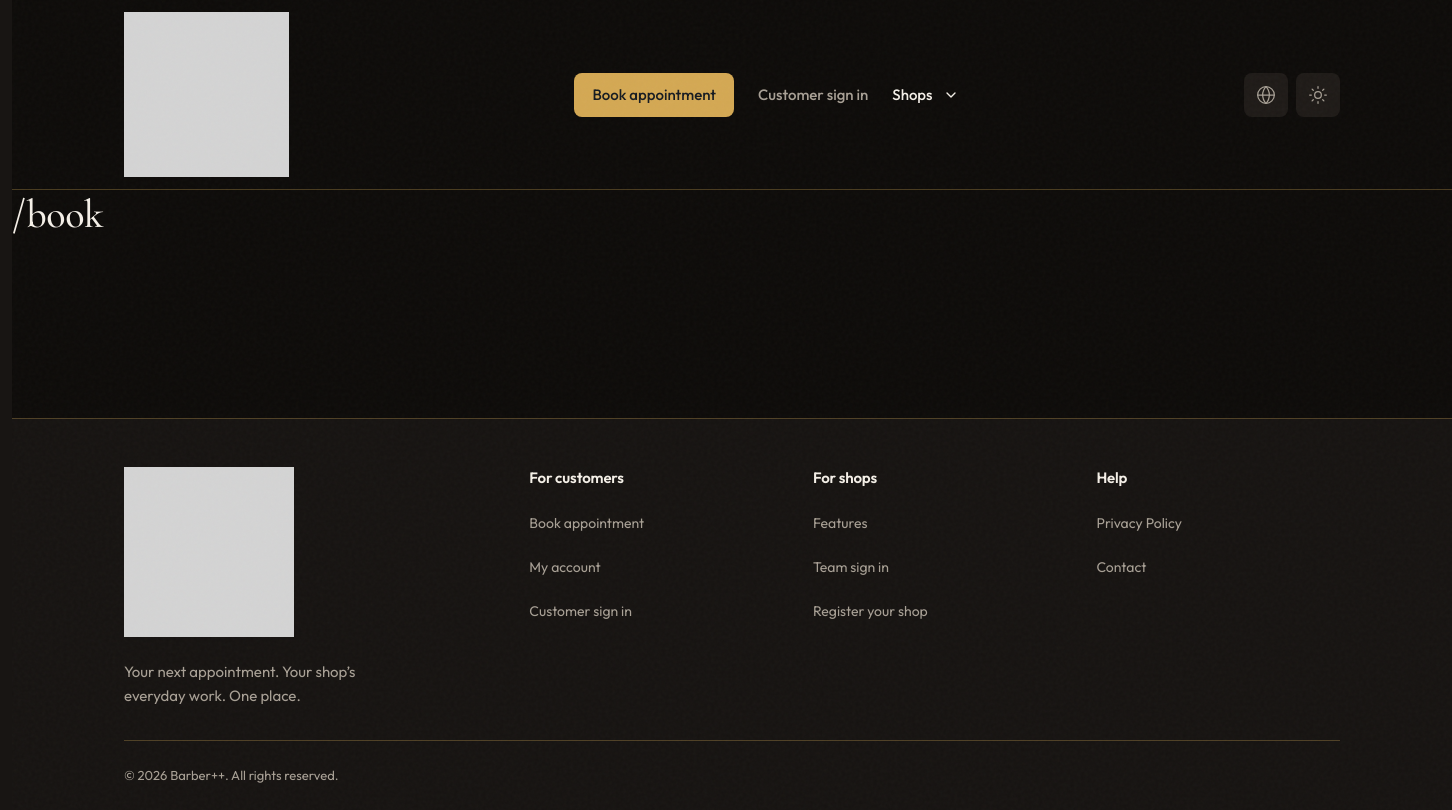
Test case: simple public navigation › keeps customer actions direct and shop actions grouped, preserving the booking return
Click the button "Shops" at (925, 94), box [892,72,958,116]
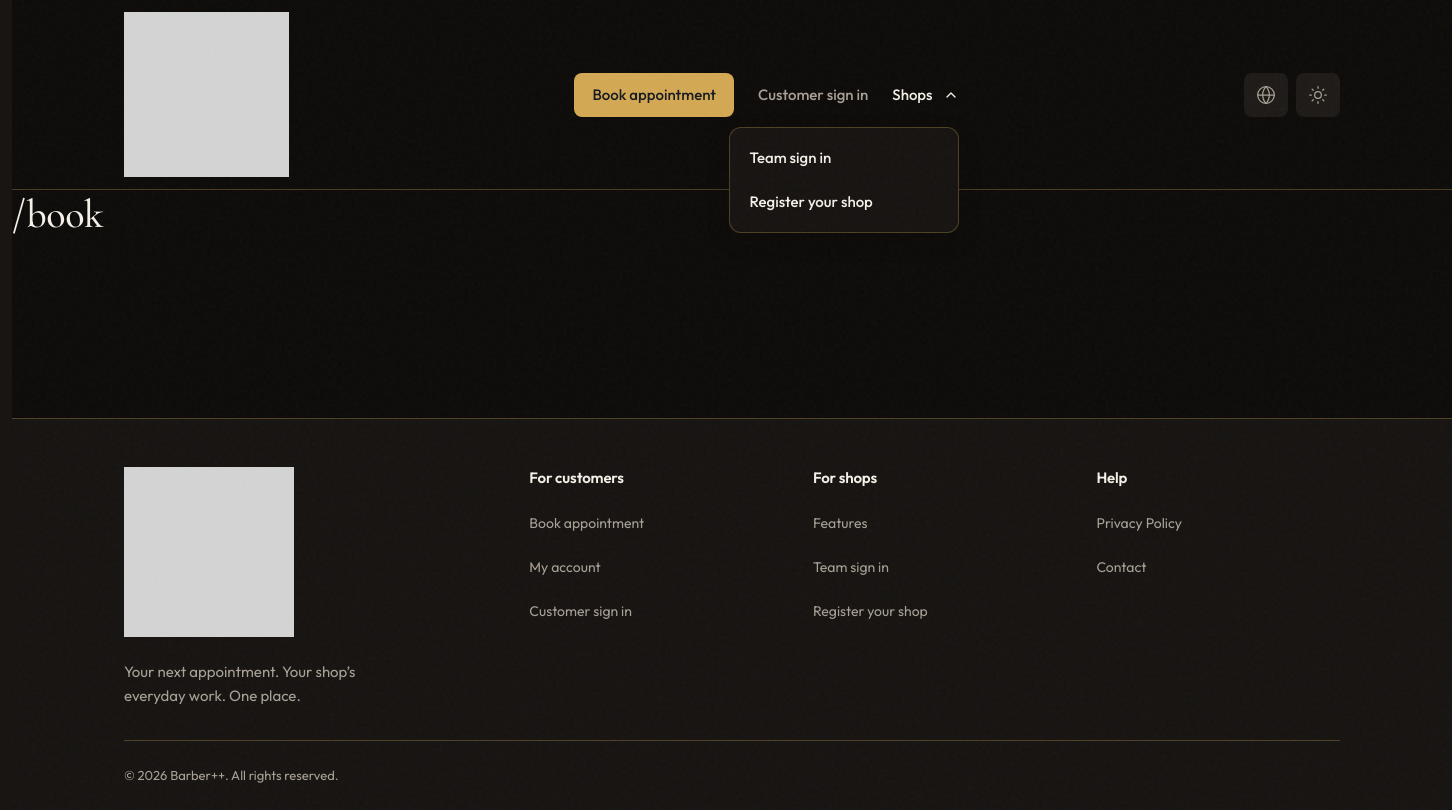
Click the 1st link "Customer sign in" at (813, 94), box [758,84,868,104]
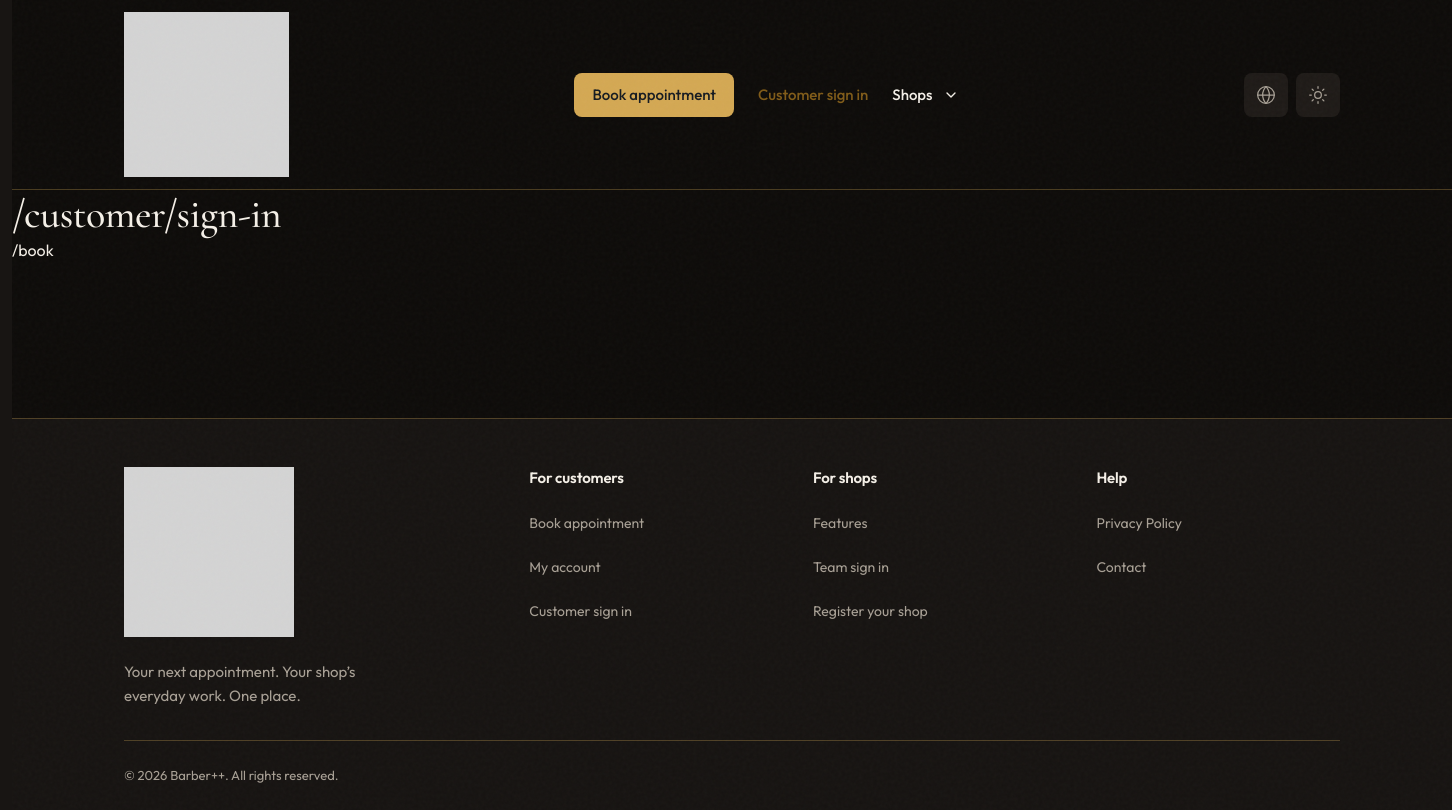
Check: the text "/book" is shown, box [12,240,54,260]
Check: the heading "/customer/sign-in" is shown, box [12,190,281,238]
